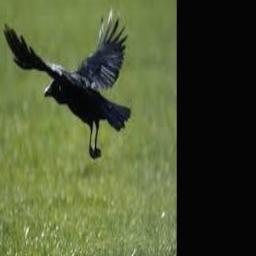Crow: (4, 1, 132, 159)
